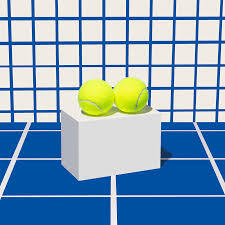Ball: (77, 78, 115, 117), (114, 78, 148, 113)
